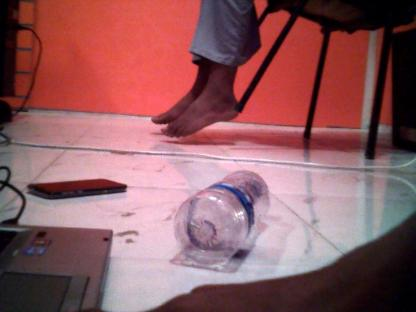Plastic Bottle: (166, 168, 274, 264)
